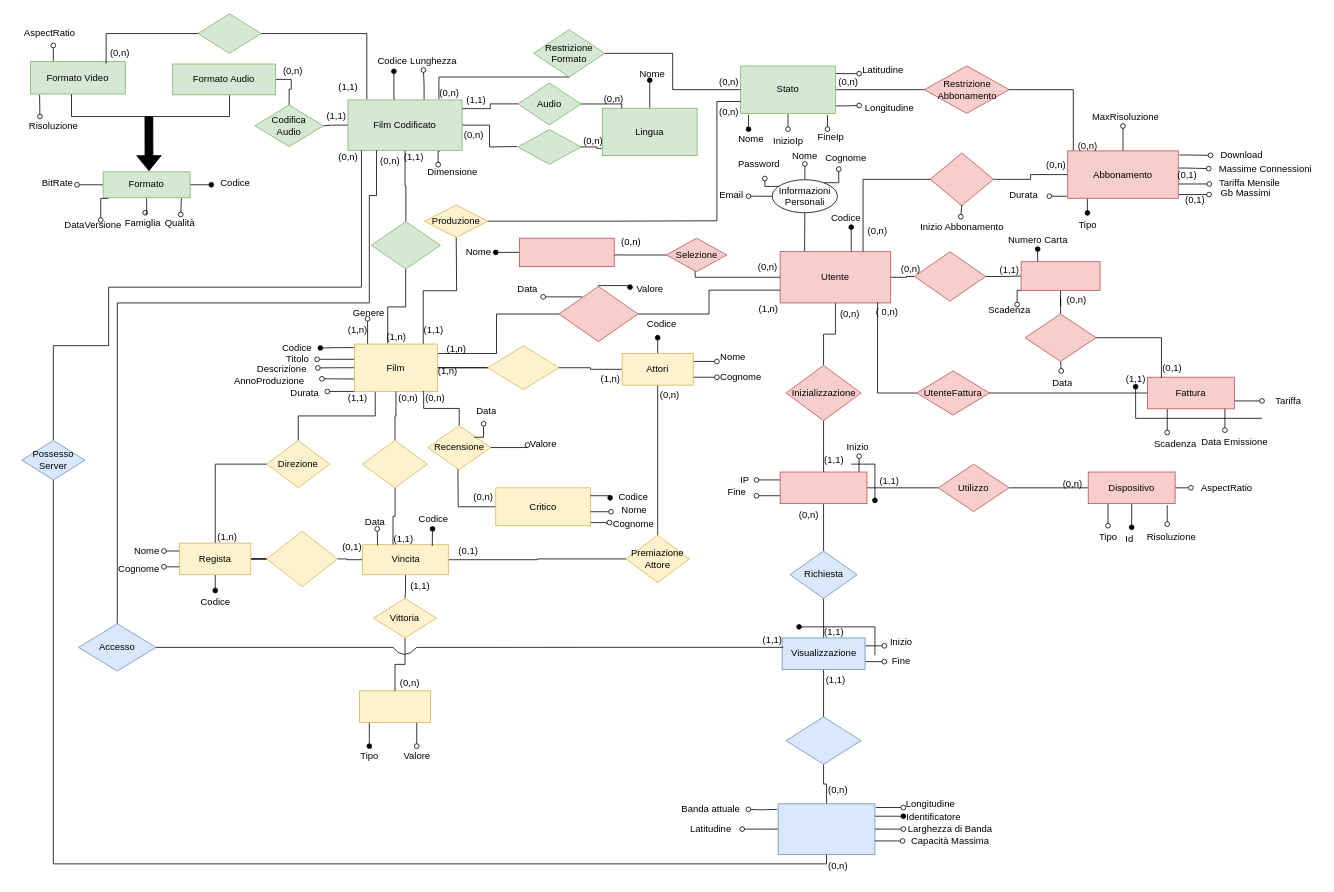
Image size: 1334x892. Some labels were removed from this diagram. Here are the shapes that lost their labels. From the top down, the box of each, then its label:
(197, 13, 261, 53): Codifica Video
(517, 129, 581, 164): Sottotitolo
(929, 152, 993, 206): Acquisto
(371, 221, 440, 269): Codifica
(519, 237, 614, 267): Preferenza
(914, 251, 986, 301): Possesso
(1020, 261, 1100, 290): Dati Fatturazione
(558, 286, 638, 342): Recensione Utente
(1024, 313, 1096, 361): Pagamento
(487, 345, 559, 390): Partecipazione
(362, 440, 428, 488): Premiazione
(779, 471, 867, 504): Connessione
(266, 530, 338, 587): Premiazione Regista
(359, 690, 431, 722): Premio
(785, 716, 861, 764): Utilizzo di
(777, 803, 875, 854): Server
